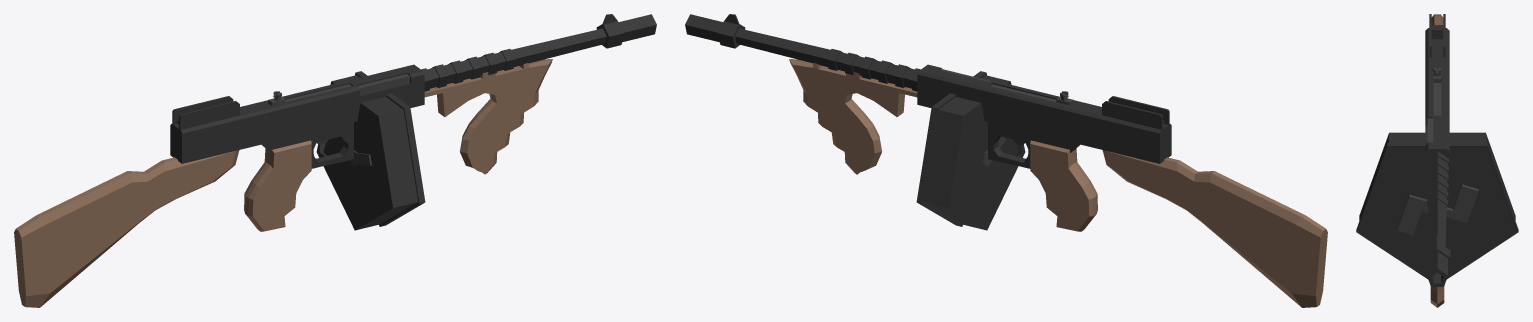
File: tommy-gun.glb
The picture shows the model from 3 angles, left to right: view 1: azimuth 30°, elevation 25°; view 2: azimuth 150°, elevation 25°; view 3: azimuth 270°, elevation 25°; orthographic projection. The views are drawn at different scales.
Parts seen in each view (by area): view 1: Main, Mag, Bolt; view 2: Main, Mag, Bolt; view 3: Mag, Main, Bolt.
Part boxes in pixels (left/top/right/bottom): Main: left=14, top=14, right=656, bottom=307; Mag: left=316, top=71, right=425, bottom=230; Bolt: left=268, top=74, right=409, bottom=105; Main: left=685, top=14, right=1327, bottom=307; Mag: left=916, top=71, right=1025, bottom=230; Bolt: left=940, top=69, right=1073, bottom=105; Mag: left=1356, top=132, right=1518, bottom=279; Main: left=1424, top=14, right=1450, bottom=307; Bolt: left=1427, top=67, right=1442, bottom=142.
Bounding box in the file's own units: 12.45 × 3.08 × 2.69.
